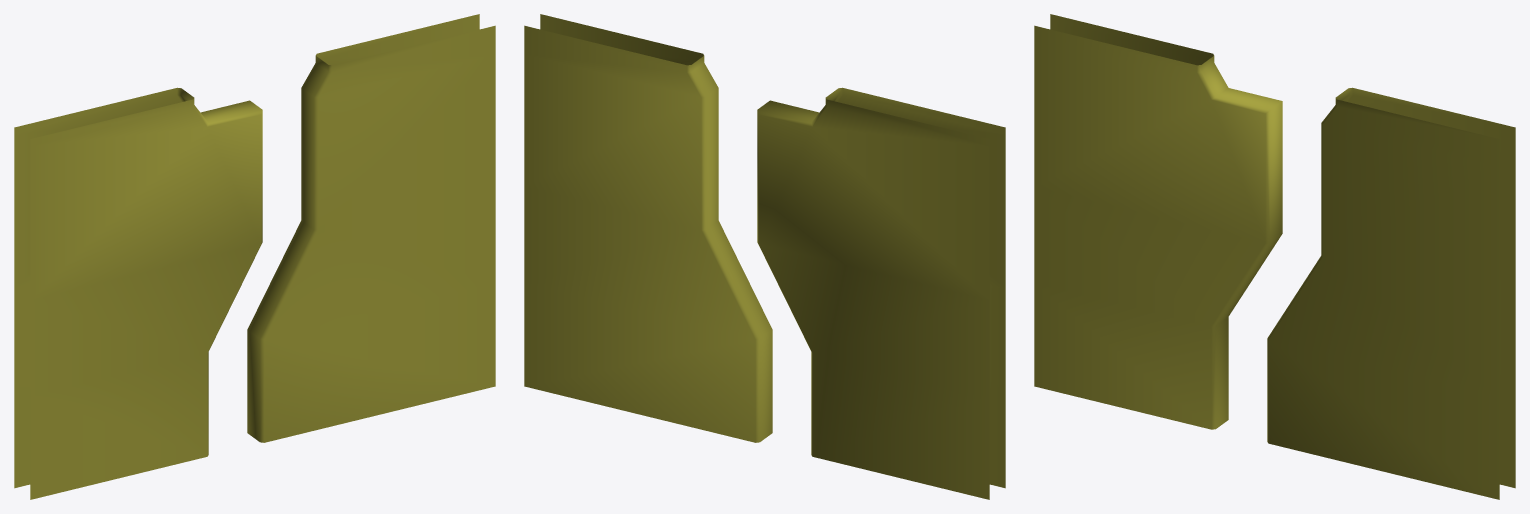
File: ElevatorLow.FBX
3 renders of one model, left to right at view 1: azimuth 30°, elevation 25°; view 2: azimuth 150°, elevation 25°; view 3: azimuth 330°, elevation 25°, orthographic.
Parts seen in each view (by area): view 1: SM_ElevatorDoor_E; view 2: SM_ElevatorDoor_E; view 3: SM_ElevatorDoor_E.
Boxes of the visible parts, box(x1,y1,x2,y2) form: SM_ElevatorDoor_E: box(14, 14, 495, 499); SM_ElevatorDoor_E: box(524, 14, 1005, 499); SM_ElevatorDoor_E: box(1034, 14, 1515, 499).
Bounding box in the file's own units: 133 × 7.87 × 98.43.
